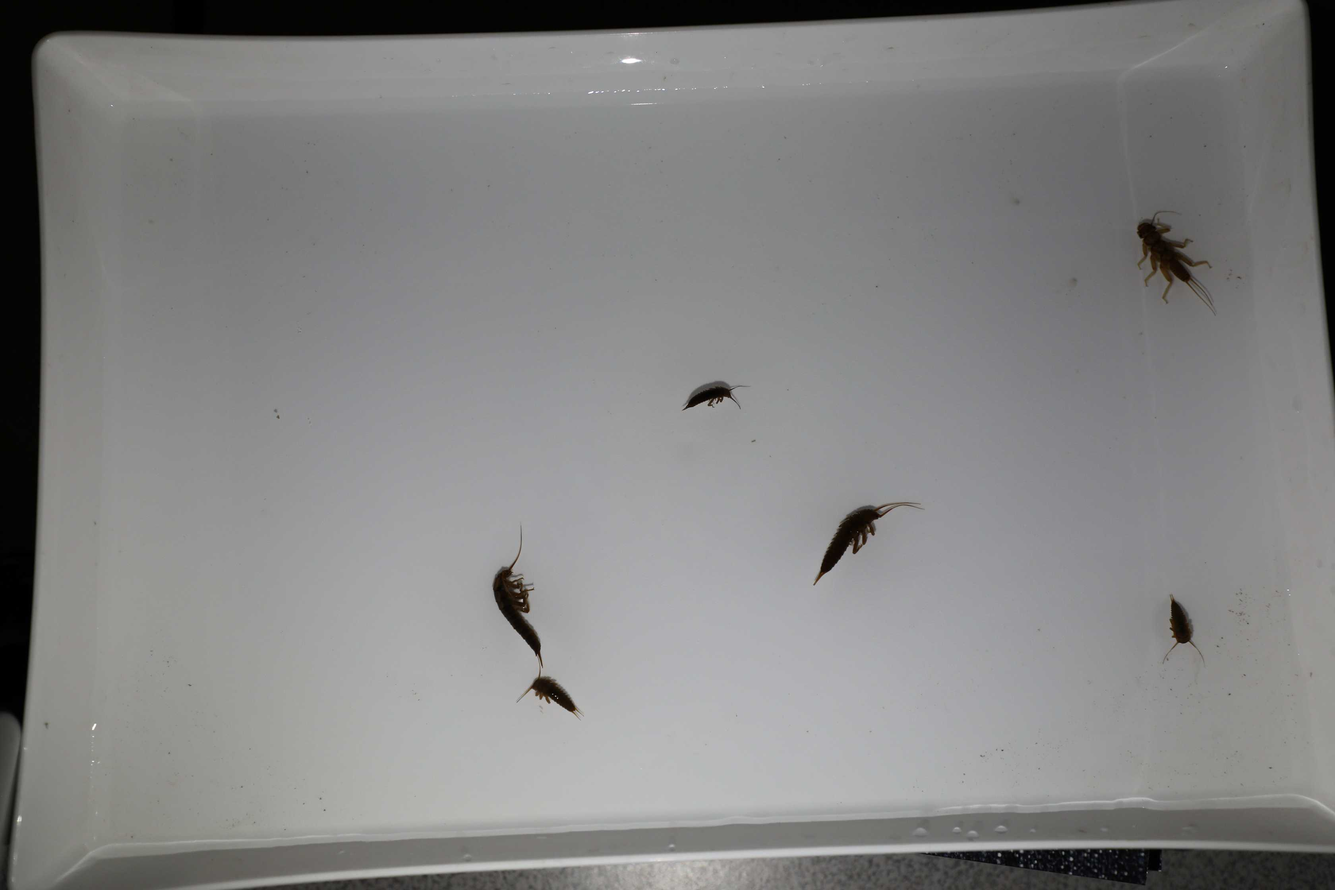Stonefly: (811, 497, 921, 599), (1134, 213, 1222, 322), (490, 523, 550, 677), (1156, 593, 1207, 662), (514, 674, 588, 720), (677, 376, 746, 421)
